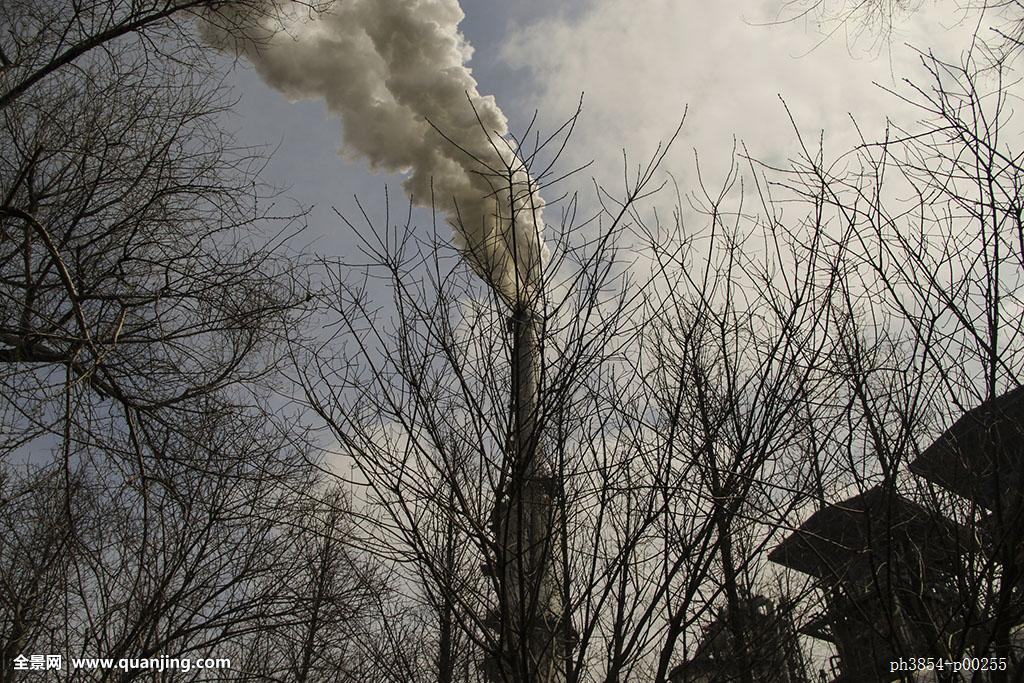dust: (302, 4, 562, 321)
